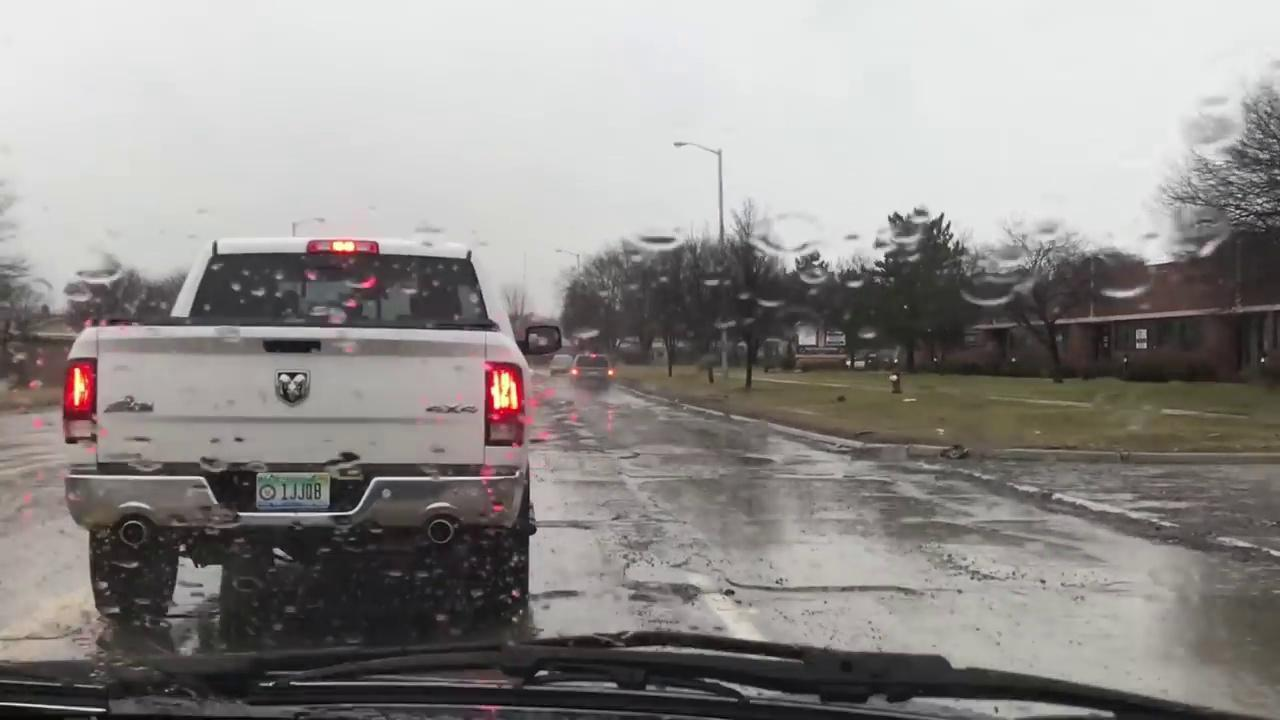pothole: (725, 579, 945, 594), (623, 581, 702, 601), (533, 589, 579, 598), (618, 451, 640, 457)
